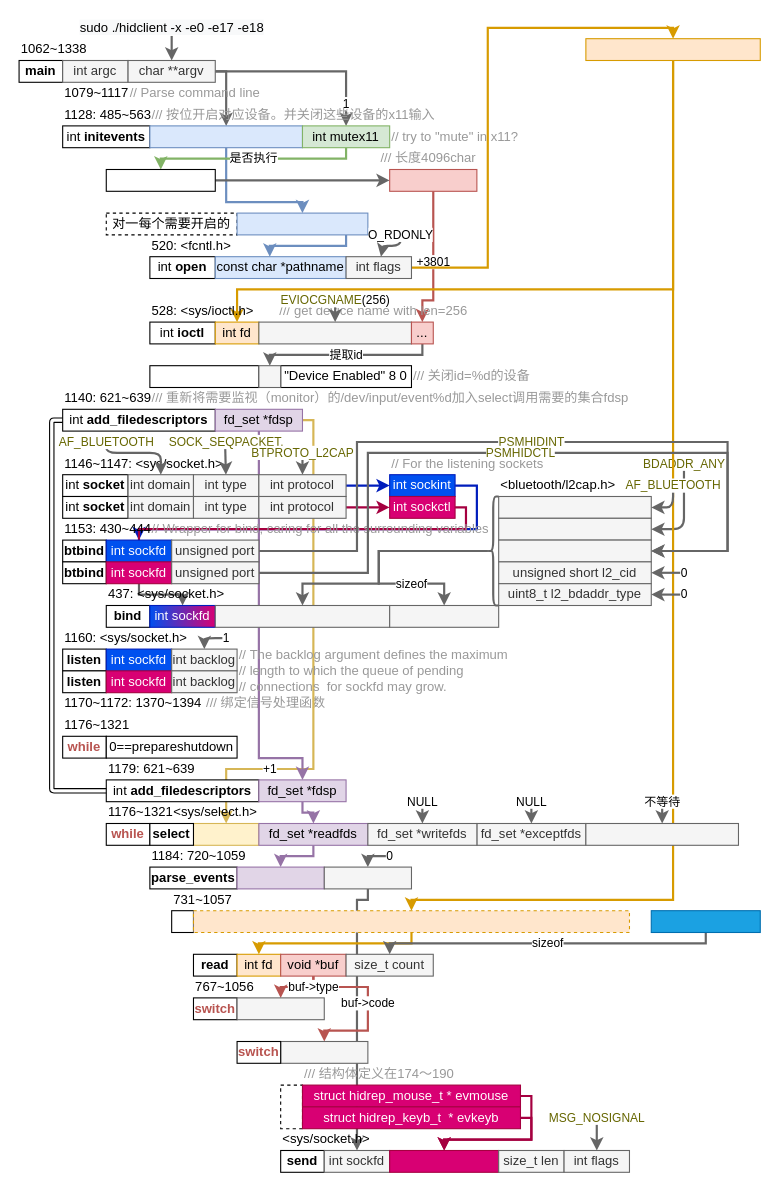
Image size: 779x1191. Some labels were removed from this diagram. The shapes that lost their labels are listed below. From the top down, each one's centre as x and y in pixels, then its label:
At point (672, 49): "int eventdevs[MAXEVDEVS]".
At point (225, 136): "unsigned int evdevmask".
At point (160, 179): "xinput --list --short".
At point (433, 179): "char *xinlist".
At point (302, 223): "/dev/input/event%d".
At point (334, 332): "unsigned long request".
At point (204, 376): "xinput set-int-prop".
At point (269, 376): "%d".
At point (574, 506): "sa_family_t l2_family".
At point (574, 528): "unsigned short l2_psm".
At point (574, 550): "bdaddr_t l2_bdaddr".
At point (302, 615): "const struct sockaddr *addr".
At point (444, 615): "socklen_t addrlen".
At point (225, 833): "int nfds".
At point (661, 833): "struct timeval *timeout".
At point (280, 877): "fd_set *efds".
At point (367, 877): "int sockdesc".
At point (182, 921): "for".
At point (410, 921): "对每一个文件用FD_ISSET进行测试，看是否可读，若可读则进行下一步".
At point (705, 921): "struct input_event".
At point (280, 1008): "inevent->type".
At point (324, 1051): "inevent->code".
At point (291, 1106): "设置".
At point (444, 1160): "const void *buf".
